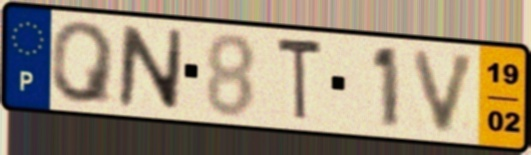1: (369, 45, 402, 130)
8: (202, 30, 261, 121)
N: (114, 23, 187, 114)
Q: (47, 19, 120, 107)
T: (274, 34, 326, 125)
V: (409, 47, 482, 137)
